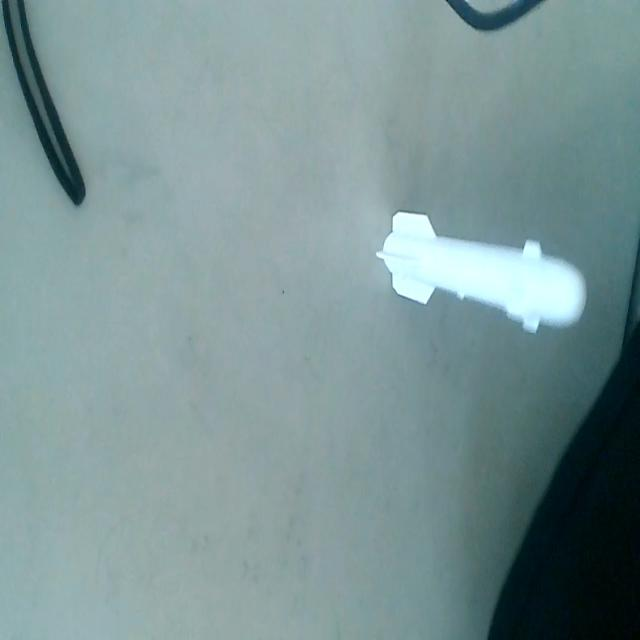Rocket: (379, 197, 590, 343)
